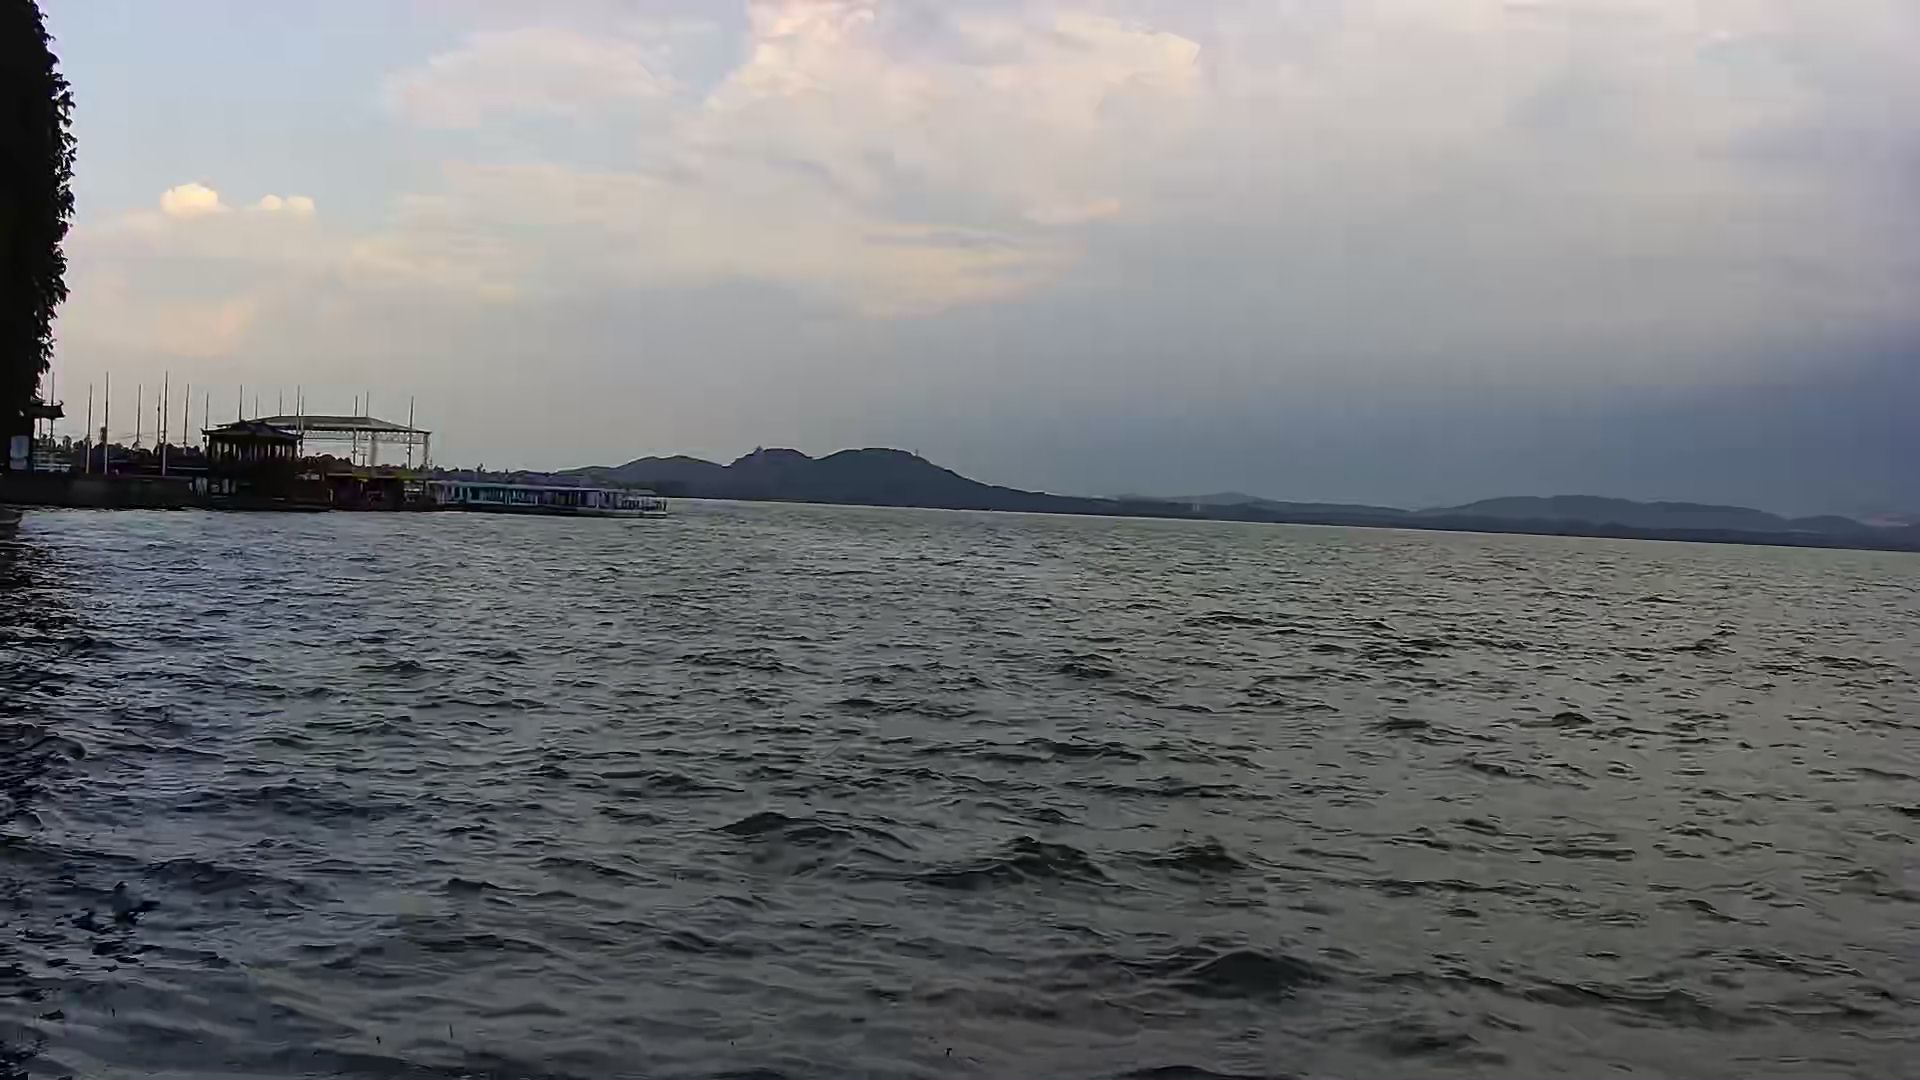boat: (444, 465, 669, 524)
